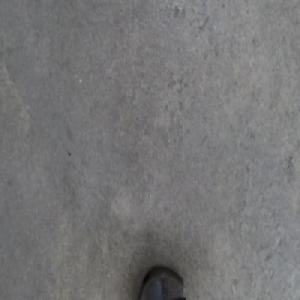AdjustableWrench: (139, 265, 187, 298)
